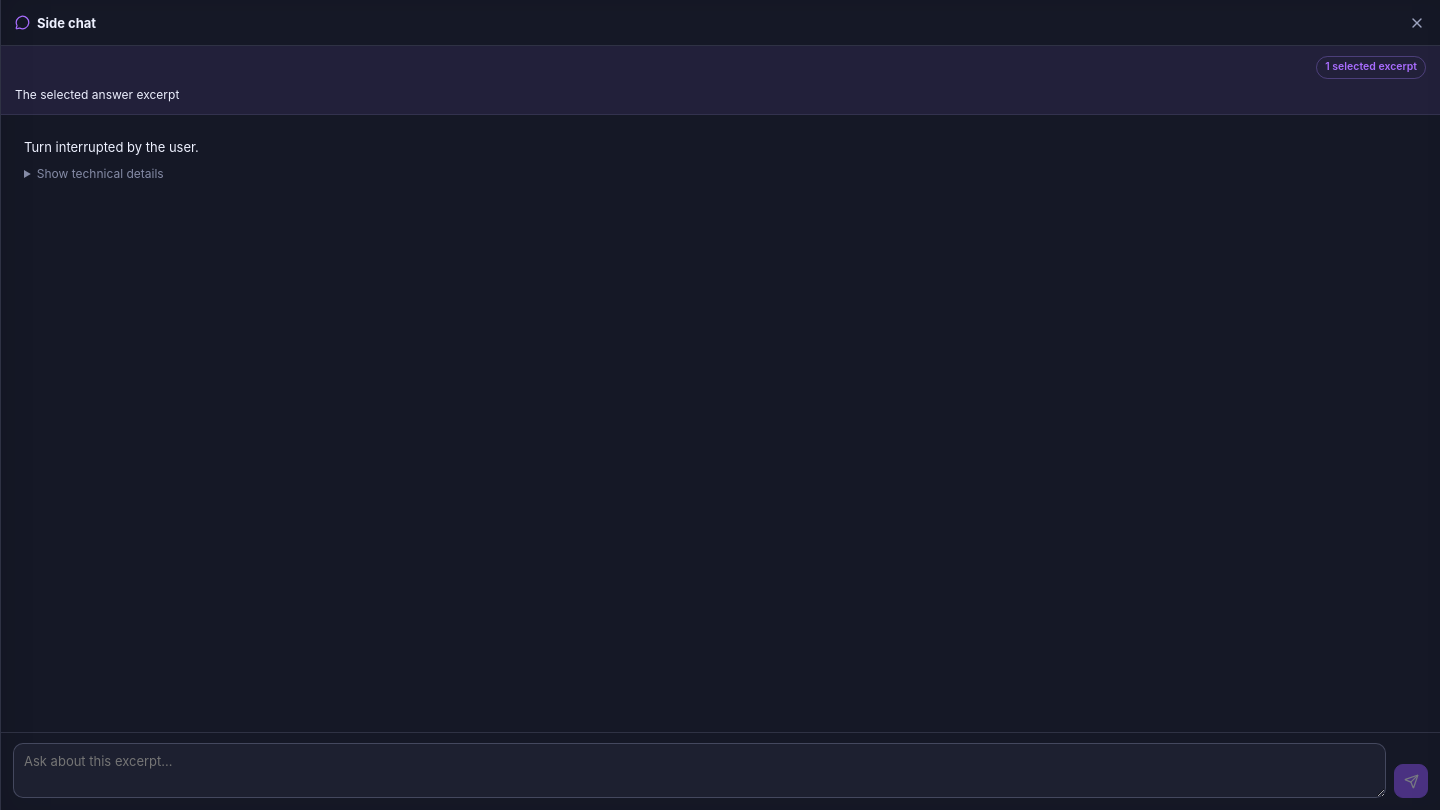
Test case: SideChatPanel › shows an interruption summary while keeping the native diagnostic expandable
Expected: the element "Side chat" shows "Turn interrupted by the user.", [24,139,199,155]
Click the heading "Show technical details" at (94, 174), box [24,165,164,183]
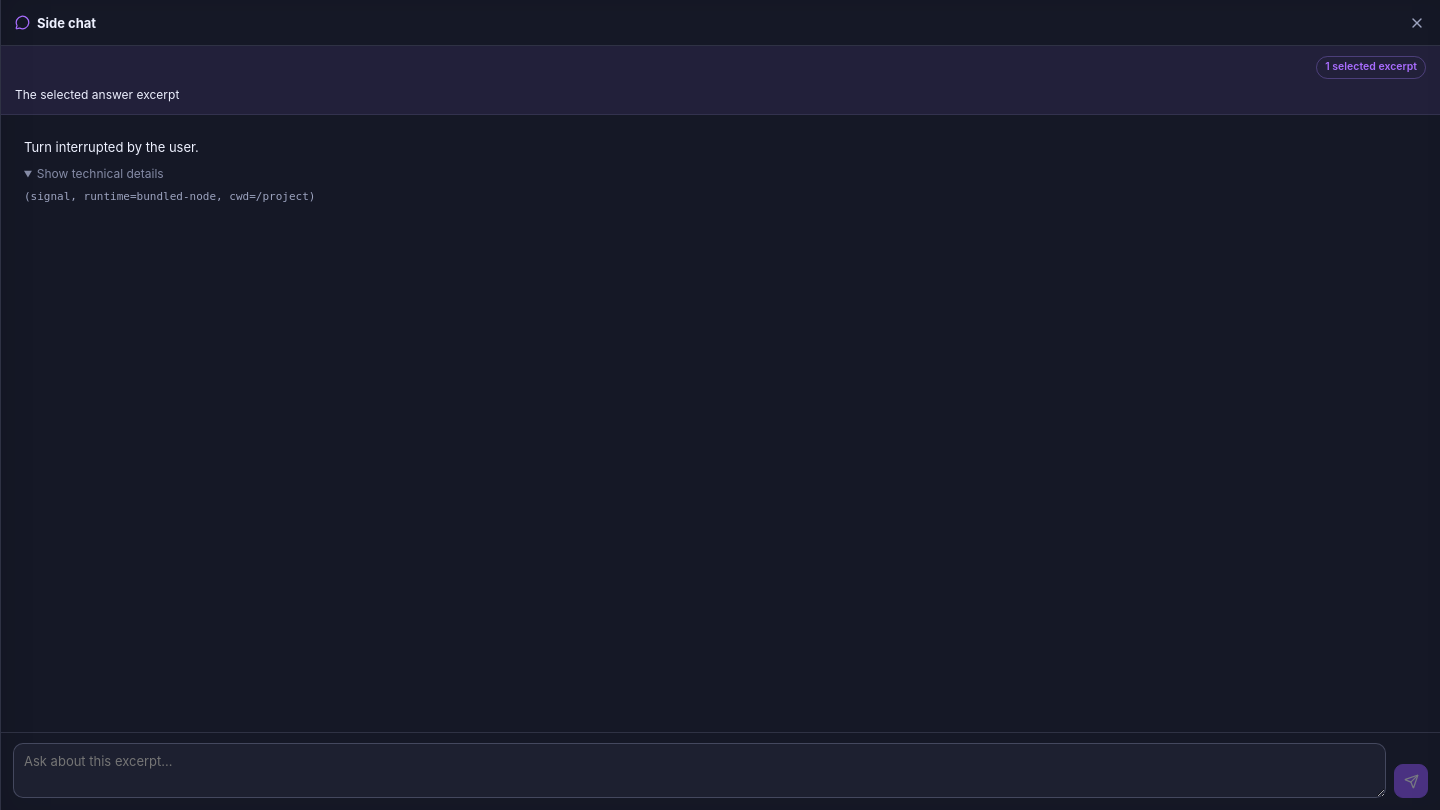
Expected: the element "Side chat" shows "(signal, runtime=bundled-node, cwd=/project)", [24,190,315,203]
